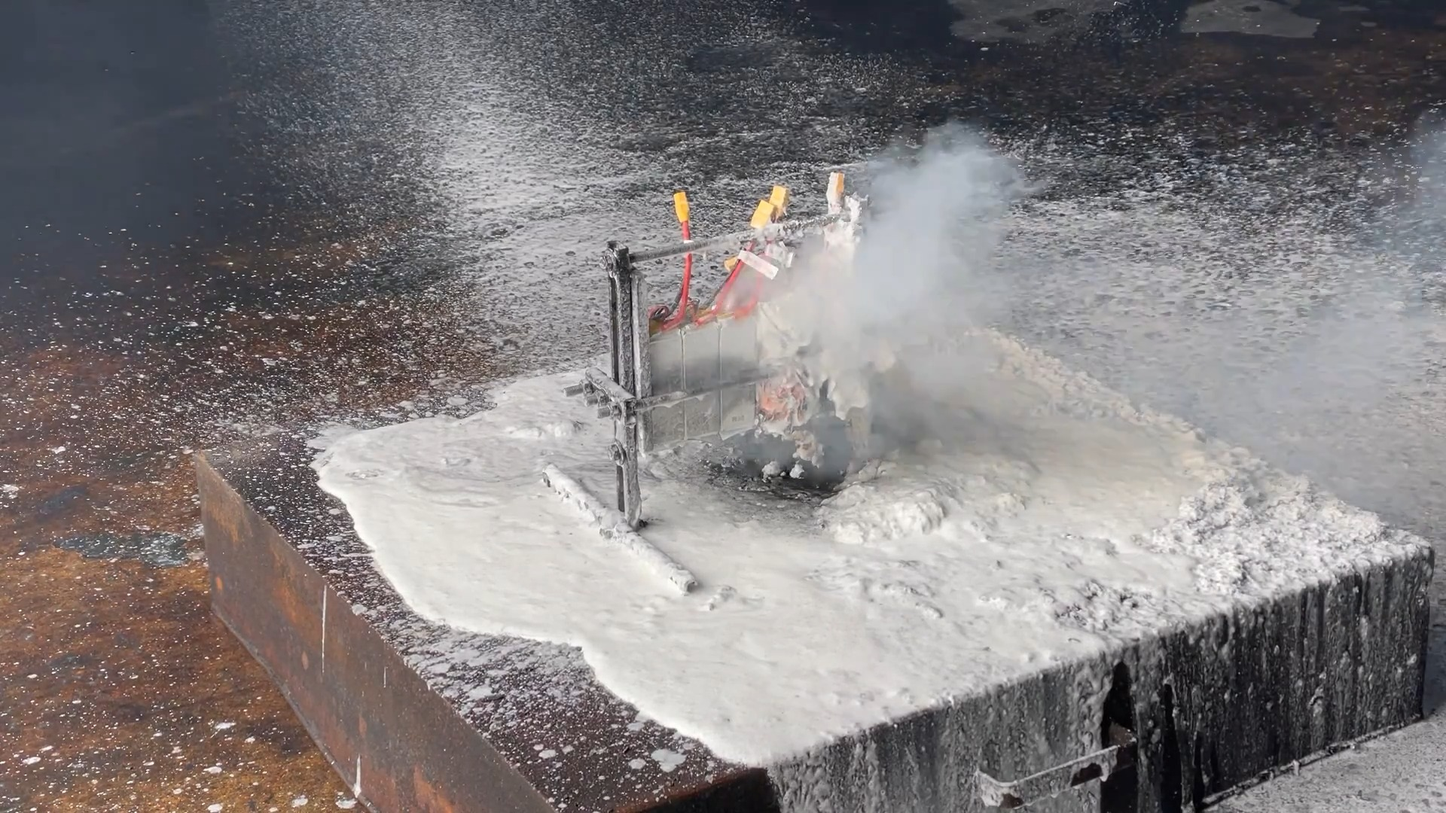smoke: (773, 119, 1051, 444)
